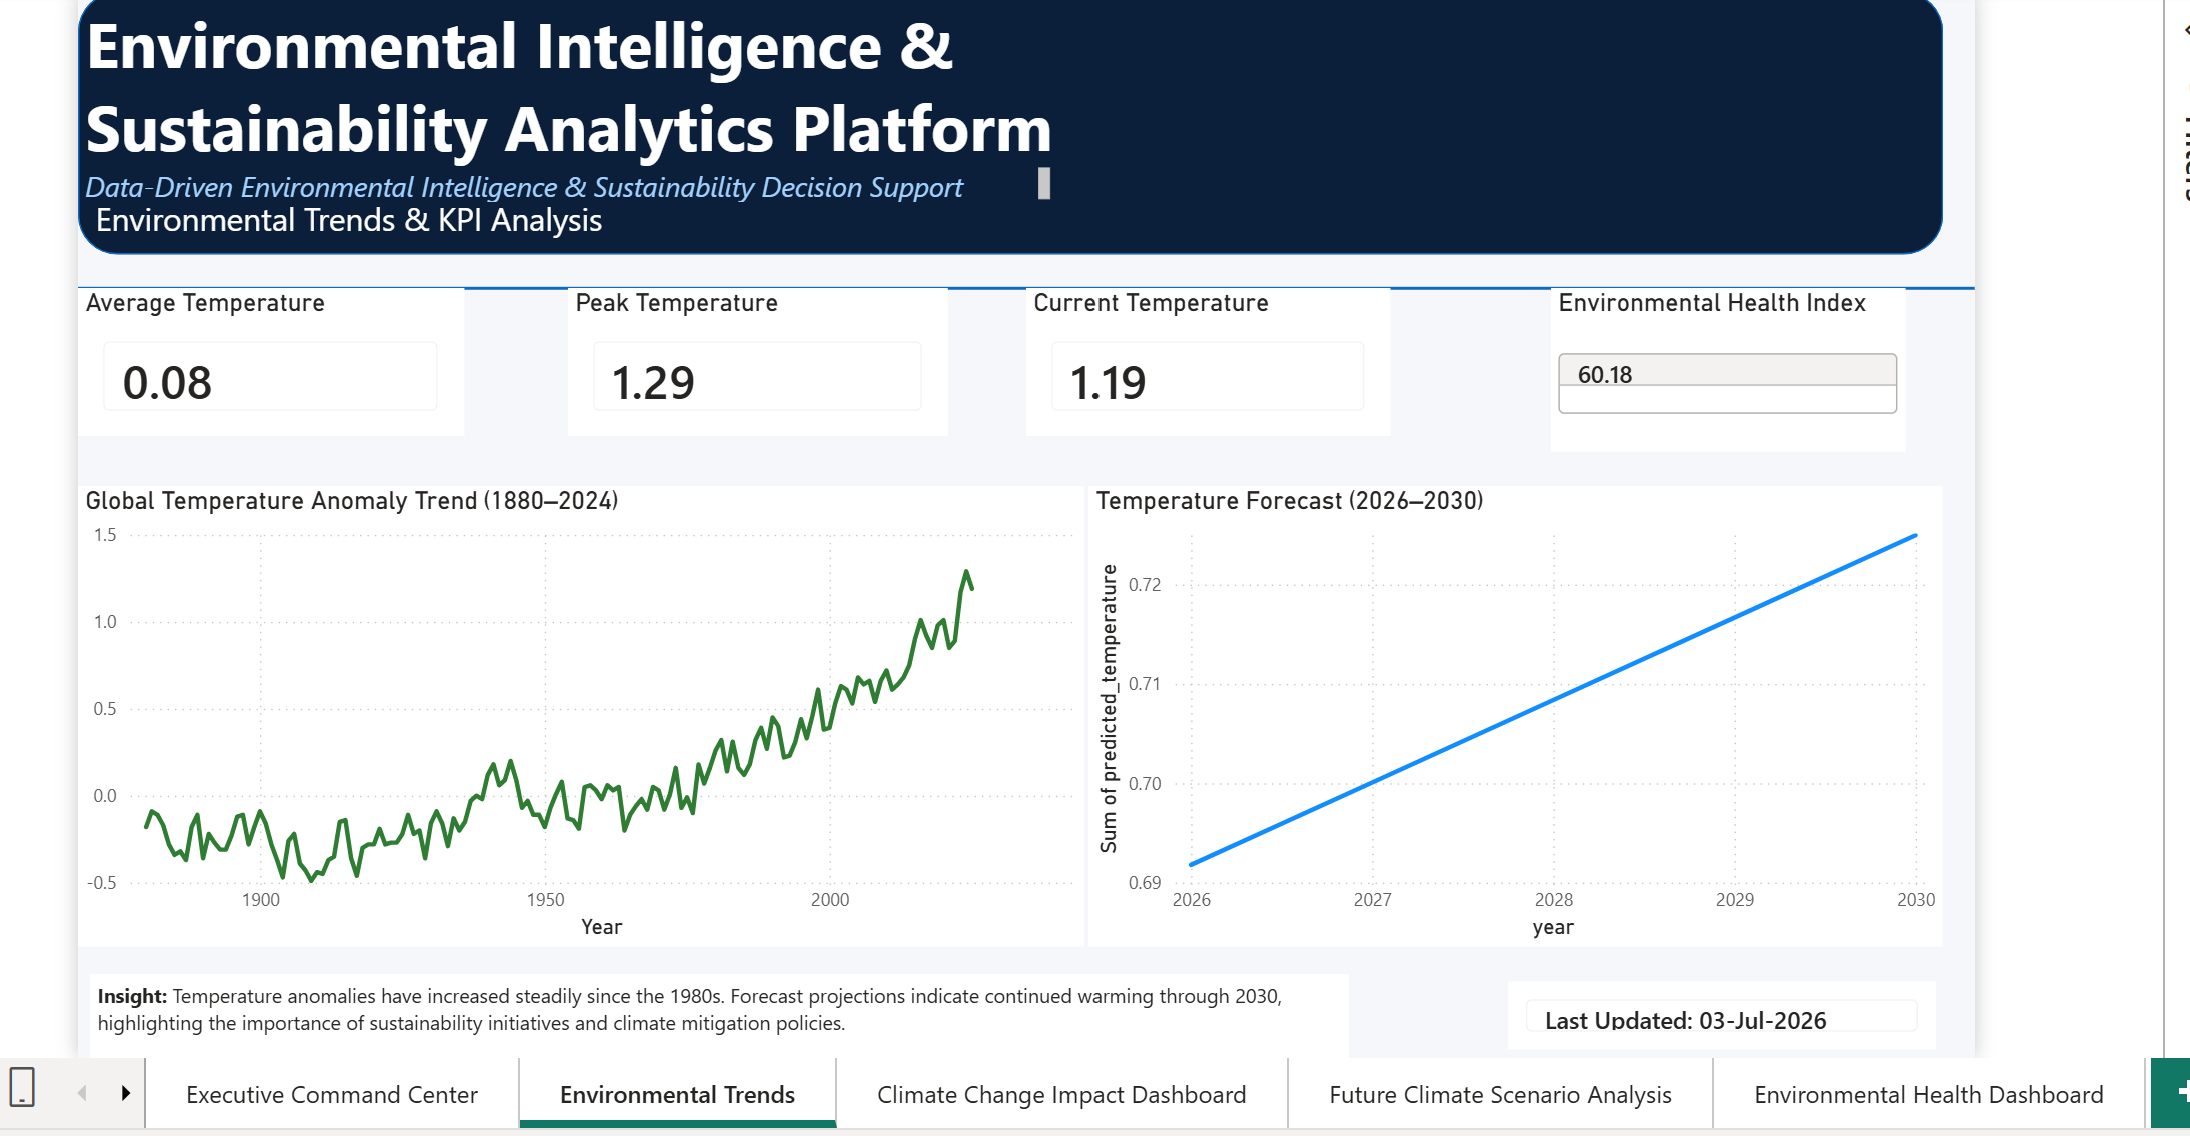

The dashboard page shown, as its layout file describes it:
{"tool":"powerbi","page":{"name":"Environmental Trends","canvas":[1280,720],"ordinal":1},"visuals":[{"type":"shape","box":[0,0,1259.1,177.3],"z":0},{"type":"textbox","box":[0,0,840.6,125],"z":1000},{"type":"textbox","box":[7.1,133.9,508.1,43.4],"z":2000},{"type":"cardVisual","fields":{"Data":["dashboard_master_dataset.Dashboard Date"]},"box":[940.8,663.3,339.6,56.7],"z":3000},{"type":"textbox","box":[0,112.8,661.4,33.1],"z":4000},{"type":"shape","box":[0,125,1280.4,149],"z":5000},{"type":"lineChart","title":"Global Temperature Anomaly Trend (1880–2024)","fields":{"Category":["fact_environment.year"],"Y":["Avg(fact_environment.temperature_anomaly)"]},"box":[0,333.6,679.4,310.9],"z":6000},{"type":"textbox","box":[7.6,662.7,849.3,57.6],"z":7000},{"type":"cardVisual","title":"Current Temperature","fields":{"Data":["fact_environment.Current Temperature"]},"box":[640,200.2,245.7,100.1],"z":8000},{"type":"cardVisual","title":"Peak Temperature","fields":{"Data":["Max(fact_environment.temperature_anomaly)"]},"box":[330.6,200.2,256.3,100.1],"z":9000},{"type":"cardVisual","title":"Average Temperature","fields":{"Data":["Avg(fact_environment.temperature_anomaly)"]},"box":[0,200.2,260.9,100.1],"z":10000},{"type":"cardVisual","title":"Environmental Health Index","fields":{"Rows":["fact_environment.environmental_health_index"]},"box":[994.9,200.2,239.6,110.7],"z":11000},{"type":"lineChart","title":"Temperature Forecast (2026–2030)","fields":{"Category":["forecast_results.year"],"Y":["Sum(forecast_results.predicted_temperature)"]},"box":[682.5,333.6,576.3,310.9],"z":12000}]}

Visuals, with their boxes on the page's 1280x720 design canvas (x1, y1, x2, y2). These are canvas units, not pixel positions in the 2190x1136 screenshot, which may show the page scaled, cropped or inside an application window:
shape: (left=0, top=0, right=1259, bottom=177)
textbox: (left=0, top=0, right=841, bottom=125)
textbox: (left=7, top=134, right=515, bottom=177)
cardVisual - dashboard_master_dataset.Dashboard Date: (left=941, top=663, right=1280, bottom=720)
textbox: (left=0, top=113, right=661, bottom=146)
shape: (left=0, top=125, right=1280, bottom=274)
"Global Temperature Anomaly Trend (1880–2024)" lineChart: (left=0, top=334, right=679, bottom=644)
textbox: (left=8, top=663, right=857, bottom=720)
"Current Temperature" cardVisual: (left=640, top=200, right=886, bottom=300)
"Peak Temperature" cardVisual: (left=331, top=200, right=587, bottom=300)
"Average Temperature" cardVisual: (left=0, top=200, right=261, bottom=300)
"Environmental Health Index" cardVisual: (left=995, top=200, right=1234, bottom=311)
"Temperature Forecast (2026–2030)" lineChart: (left=682, top=334, right=1259, bottom=644)
